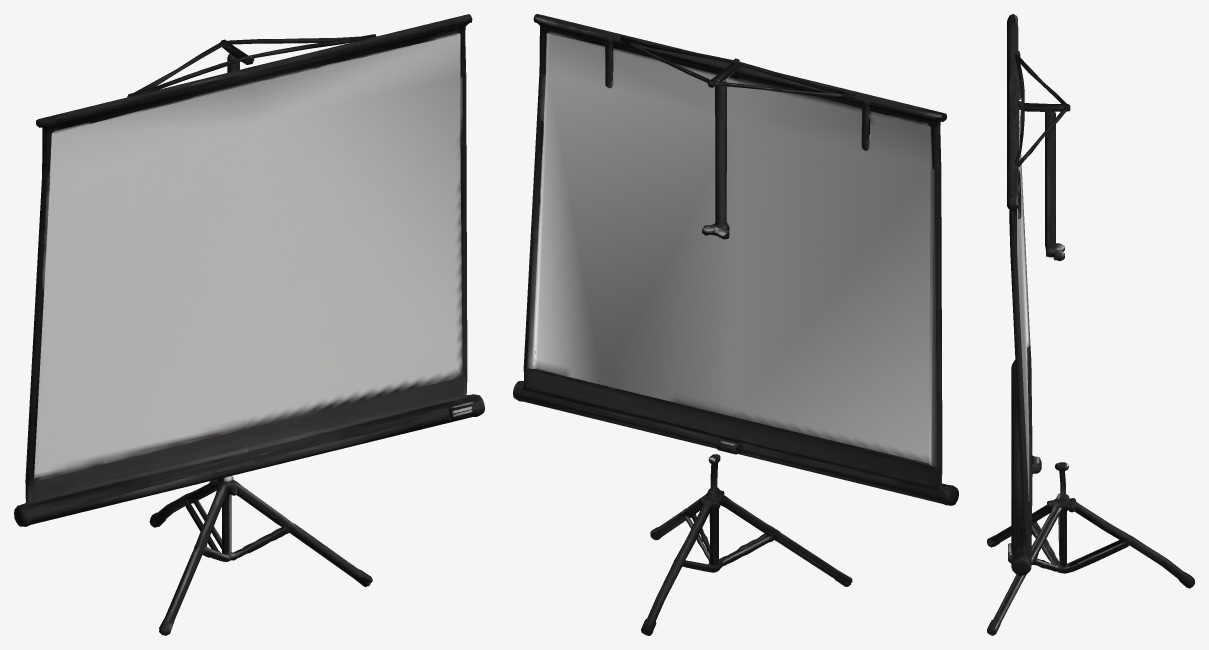
Rendered from _PROJECTOR_SCREEn_7FTTall_0222031101_texture.glb.
3 views of the same model, side by side, from view 1: azimuth 30°, elevation 25°; view 2: azimuth 150°, elevation 25°; view 3: azimuth 270°, elevation 25° (orthographic). The views are drawn at different scales.
Visible parts, largest first — view 1: Mesh_0; view 2: Mesh_0; view 3: Mesh_0.
Part boxes in pixels (x1,y1,x2,y2): Mesh_0: [14, 14, 484, 635]; Mesh_0: [513, 14, 958, 635]; Mesh_0: [987, 14, 1194, 635].
Bounding box in the file's own units: 1.9 × 2.13 × 0.821.
Materials: 1 (1 with a texture image).
